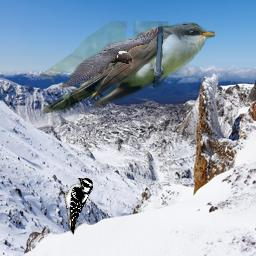Crow: (59, 27, 159, 89)
Cuckoo: (40, 21, 215, 113)
Woodpecker: (59, 178, 93, 236)
